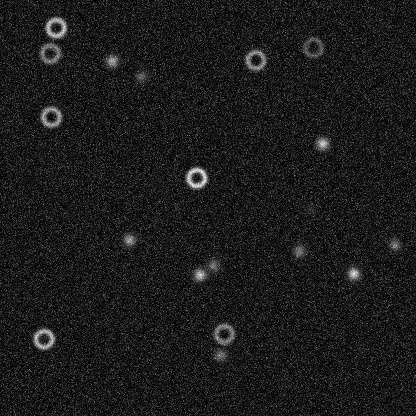Ring: (38, 104, 62, 128), (243, 47, 267, 71), (211, 321, 235, 345), (37, 41, 61, 65), (301, 35, 325, 59), (43, 15, 67, 39), (184, 165, 208, 189), (31, 326, 55, 350)
Spot: (132, 68, 148, 84), (121, 231, 137, 247), (191, 266, 207, 282), (345, 265, 361, 281), (212, 346, 228, 362), (314, 135, 330, 151), (291, 243, 307, 259), (205, 257, 221, 273), (386, 236, 402, 252), (103, 52, 119, 68), (302, 201, 318, 217)
